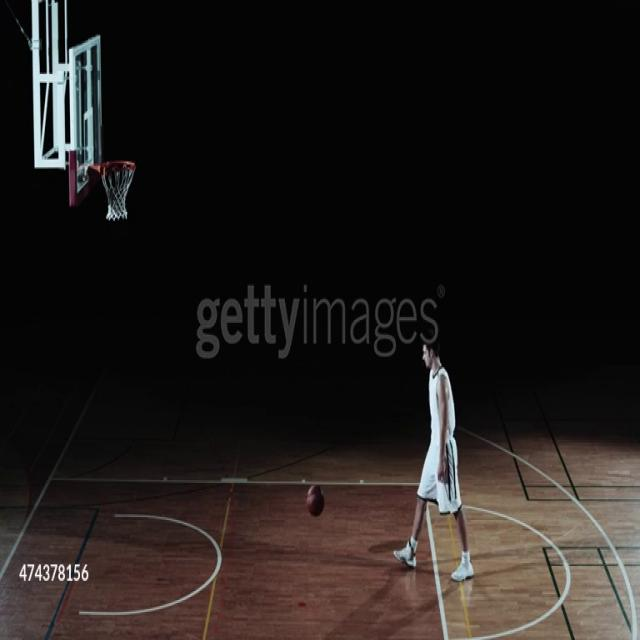ball: (307, 484, 326, 517)
